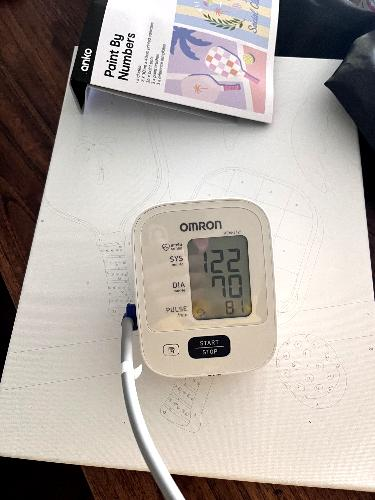bpm: (186, 233, 255, 323)
